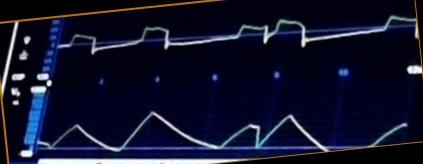Double_Triggering Flow: (59, 13, 418, 62)
Double_Triggering Volume: (38, 106, 406, 155)
